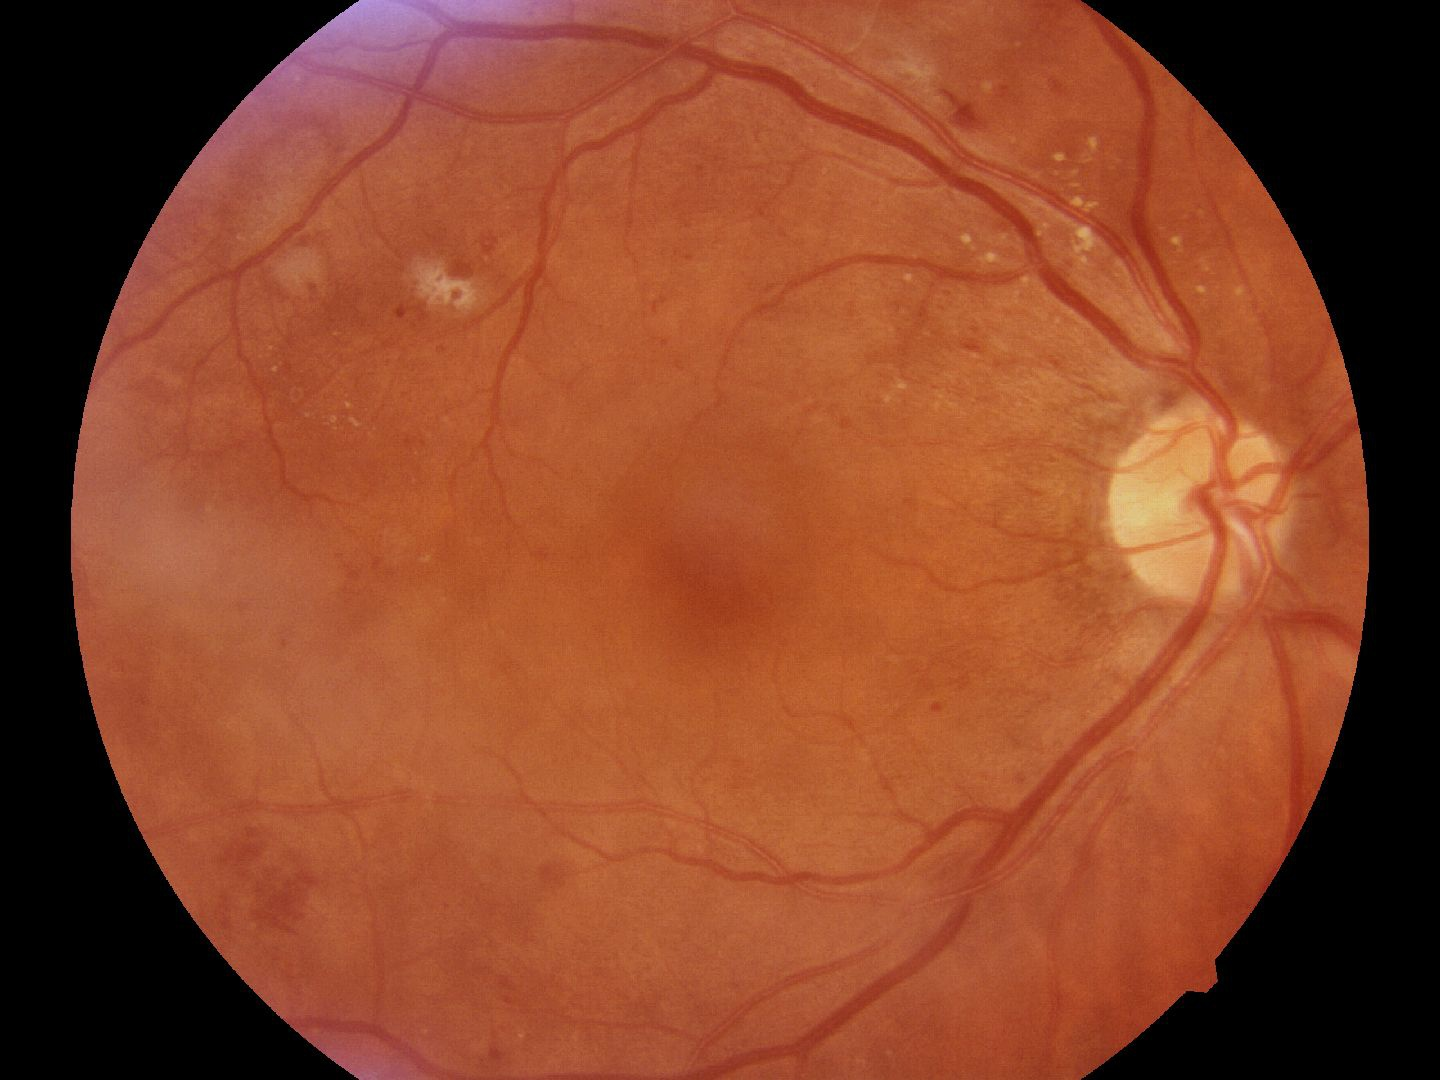Exudates: (1054, 160, 1117, 265), (418, 238, 478, 331)
Hemorrhages: (641, 493, 789, 670)
Microaneurysms: (209, 839, 334, 930)
Optic-Disc: (1121, 383, 1301, 627)
Venules: (749, 788, 1034, 1033), (639, 19, 893, 162)
